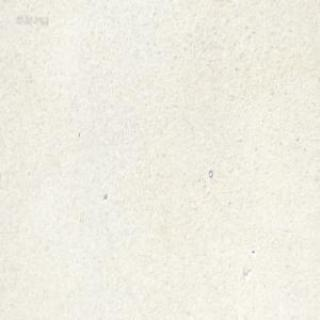Washertrack_idkeyframe: (207, 168, 212, 178)
